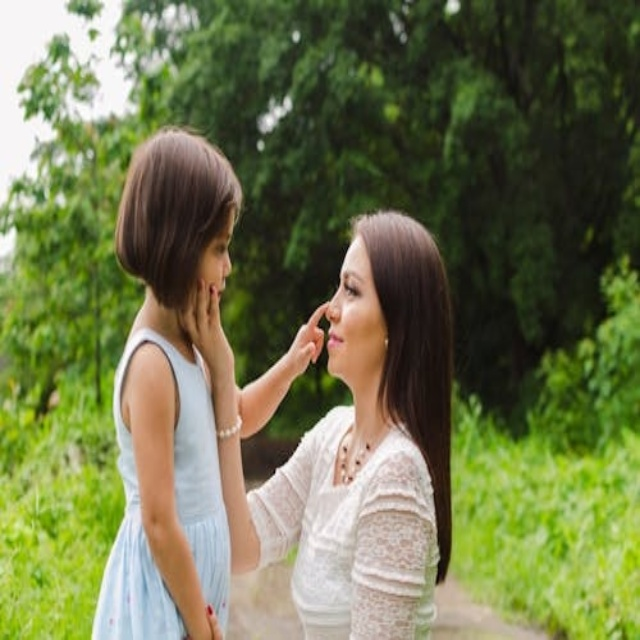Sin_gafas: (338, 261, 372, 311), (206, 228, 237, 263)
Sin_guantes: (182, 273, 239, 375), (285, 300, 330, 375)
Sin_mascara: (324, 325, 365, 379), (214, 278, 229, 307)
